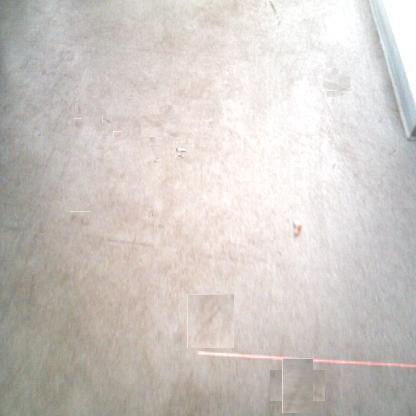dirty: (291, 219, 302, 236), (177, 146, 186, 156)
mark: (187, 294, 234, 348), (276, 364, 319, 407), (145, 109, 177, 141), (325, 71, 348, 94), (70, 211, 90, 226), (267, 1, 276, 13), (74, 104, 84, 114), (74, 118, 82, 129), (276, 14, 283, 26), (157, 221, 165, 231), (102, 115, 111, 123), (148, 208, 154, 218), (207, 119, 214, 127), (330, 161, 336, 170), (114, 131, 121, 138), (154, 157, 160, 165), (392, 147, 398, 155), (128, 95, 134, 101)
